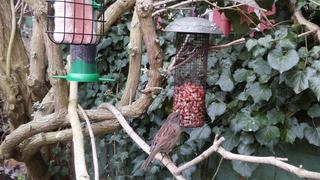dunnock: (141, 111, 184, 170)
